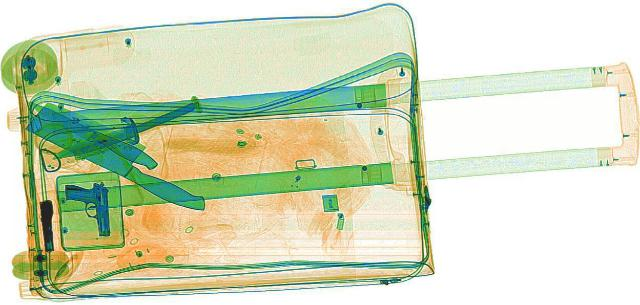Gun: (62, 181, 114, 236), (37, 199, 53, 251)
Knife: (2, 98, 240, 213), (13, 96, 166, 169), (44, 100, 210, 161)
